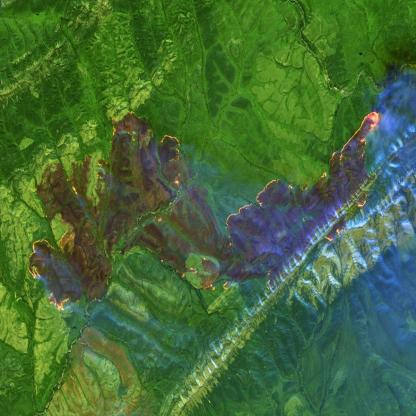fire: (26, 108, 383, 316)
